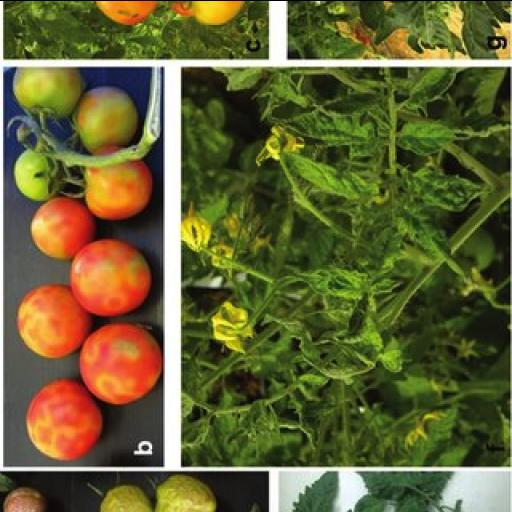disease_tomato: (291, 155, 381, 197), (410, 165, 486, 213), (286, 110, 382, 144), (394, 118, 460, 154), (397, 67, 456, 107)
